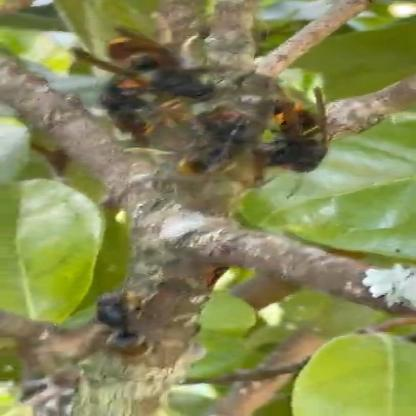bee: (62, 19, 348, 182), (68, 280, 207, 376)
